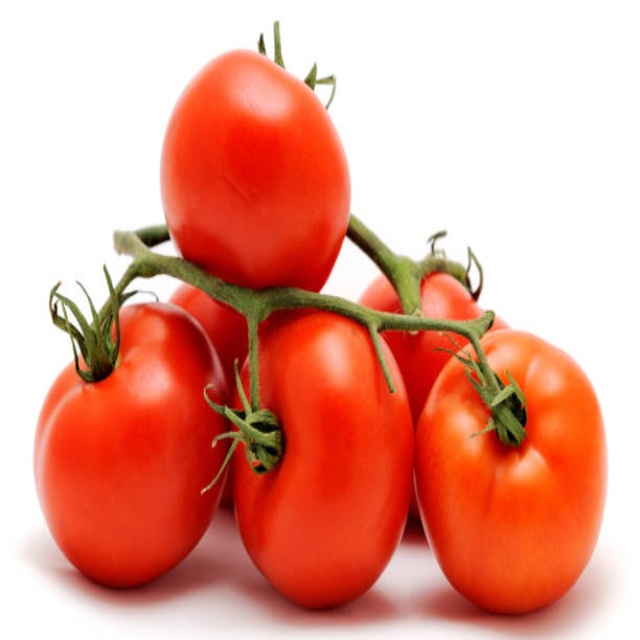tomato: (35, 304, 234, 589), (223, 325, 412, 612), (152, 47, 362, 300), (420, 327, 606, 609), (347, 261, 500, 412)
